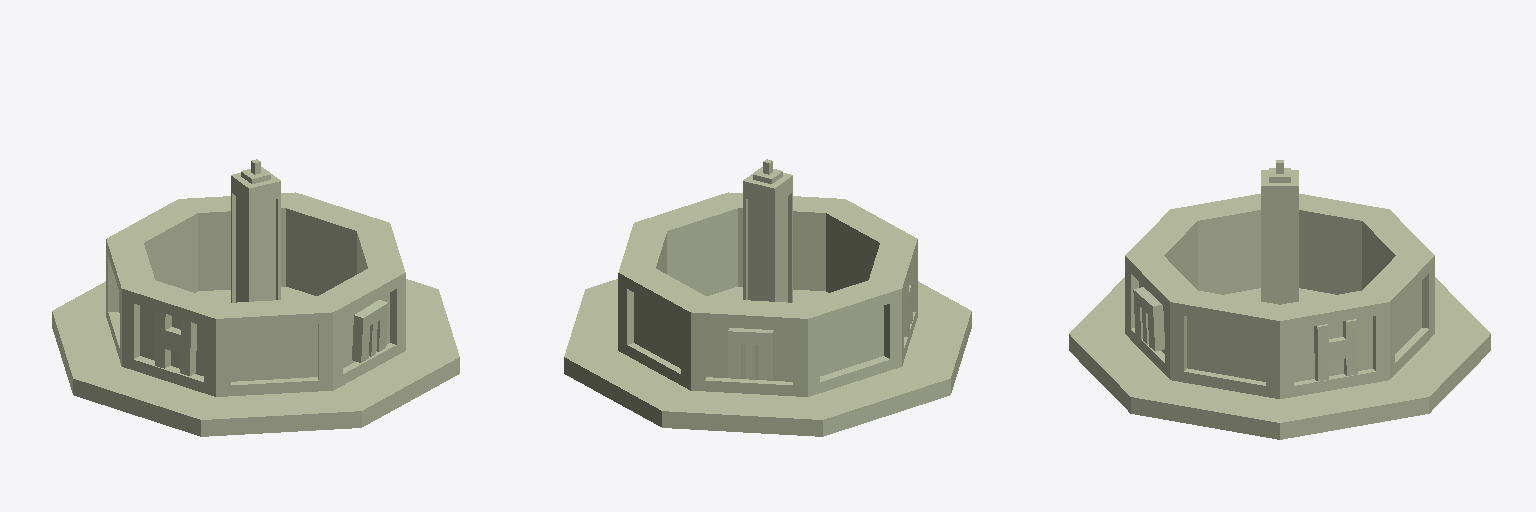
Rendered from brunnen4.obj.
The picture shows the model from 3 angles: view 1: azimuth 30°, elevation 25°; view 2: azimuth 150°, elevation 25°; view 3: azimuth 270°, elevation 25°; orthographic projection.
Visible parts, largest first — view 1: Tube4, Cylinder6, Cube7, Cube7_copy8, Cube9_copy10; view 2: Tube4, Cylinder6, Cube7, Cube9; view 3: Tube4, Cylinder6, Cube7, Cube9_copy10.
Boxes of the visible parts, x1=… form: Tube4: x1=106, y1=192, x2=405, y2=396; Cylinder6: x1=52, y1=279, x2=459, y2=436; Cube7: x1=231, y1=159, x2=280, y2=302; Cube7_copy8: x1=155, y1=311, x2=196, y2=375; Cube9_copy10: x1=352, y1=300, x2=387, y2=362; Tube4: x1=618, y1=192, x2=917, y2=396; Cylinder6: x1=564, y1=279, x2=971, y2=436; Cube7: x1=743, y1=159, x2=792, y2=302; Cube9: x1=728, y1=328, x2=773, y2=379; Tube4: x1=1125, y1=194, x2=1434, y2=398; Cylinder6: x1=1069, y1=277, x2=1490, y2=439; Cube7: x1=1261, y1=160, x2=1357, y2=381; Cube9_copy10: x1=1133, y1=287, x2=1164, y2=351.
Bounding box in the file's own units: 3.41 × 1.69 × 3.41.